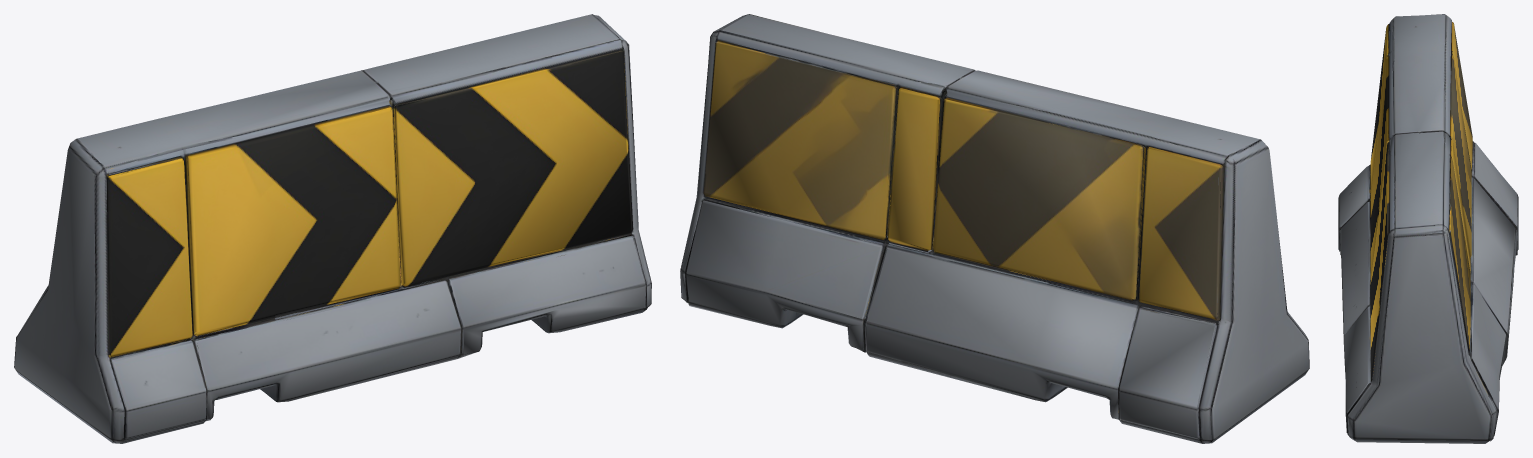
File: concrete-wall.glb
3 renders of one model, left to right at view 1: azimuth 30°, elevation 25°; view 2: azimuth 150°, elevation 25°; view 3: azimuth 270°, elevation 25°, orthographic. The views are drawn at different scales.
Visible parts, largest first — view 1: tripo_node_84010e7e-9787-4553-87b7-5e8f1a925fc4; view 2: tripo_node_84010e7e-9787-4553-87b7-5e8f1a925fc4; view 3: tripo_node_84010e7e-9787-4553-87b7-5e8f1a925fc4.
Part boxes in pixels (x1,y1,x2,y2): tripo_node_84010e7e-9787-4553-87b7-5e8f1a925fc4: (14, 14, 651, 443); tripo_node_84010e7e-9787-4553-87b7-5e8f1a925fc4: (680, 14, 1309, 443); tripo_node_84010e7e-9787-4553-87b7-5e8f1a925fc4: (1338, 14, 1518, 443).
Bounding box in the file's own units: 3.35 × 1.5 × 1.13.
Materials: 1 (1 with a texture image).
